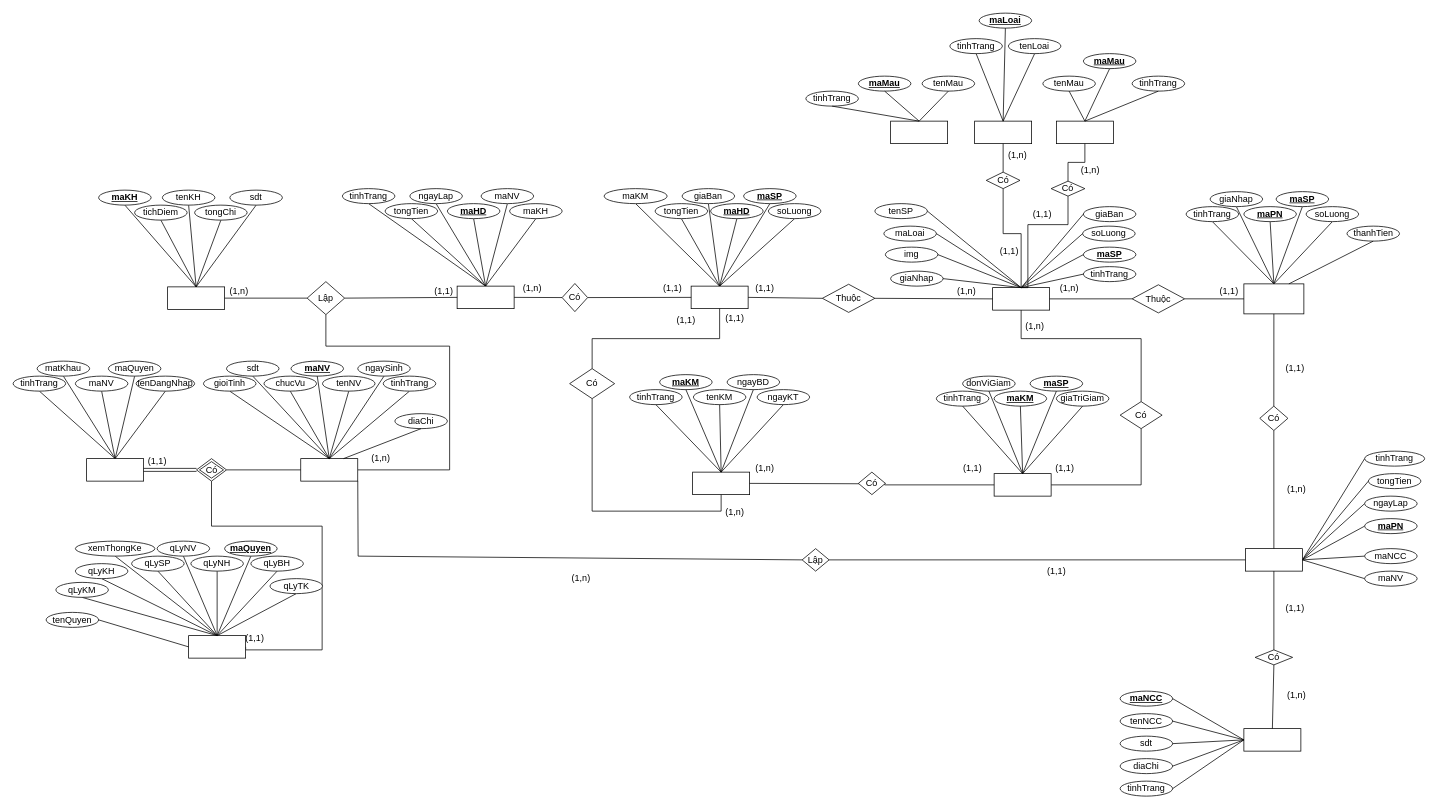
Image size: 1438x809. Some labels were removed from this diagram. The centre of each missing label's shape, as x and y in pixels:
CT_Hóa đơn: [719,297]
CT_Khuyến mãi: [1022,484]
CT_Phiếu nhập: [1273,298]
Hóa đơn: [485,297]
Khuyến mãi: [721,483]
Khách hàng: [196,297]
Kích cỡ: [919,132]
Loại sản phẩm: [1003,132]
Màu sắc: [1084,132]
Nhà cung cấp: [1272,739]
Nhân viên: [329,469]
Phiếu nhập: [1273,559]
Phân quyền: [217,646]
Sản phẩm: [1021,298]
Tài khoản: [115,469]
